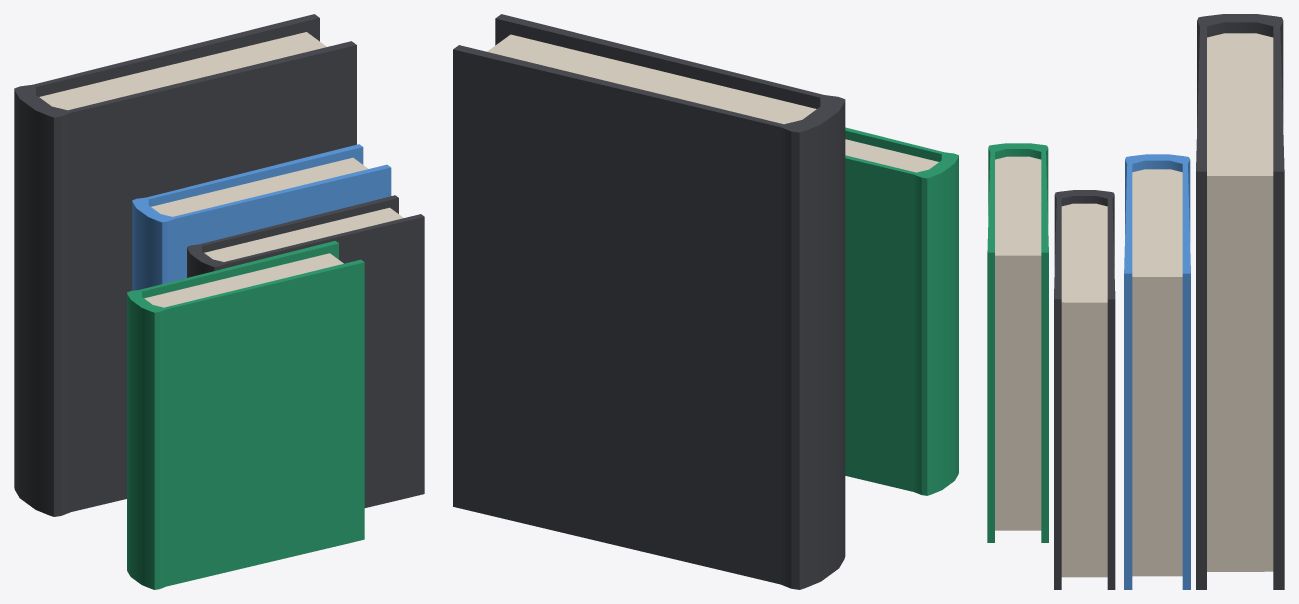
The model's file is BookPile3.fbx.
3 views of the same model, side by side, from view 1: azimuth 30°, elevation 25°; view 2: azimuth 150°, elevation 25°; view 3: azimuth 270°, elevation 25° (orthographic). The views are drawn at different scales.
Visible parts, largest first — view 1: polySurface104; view 2: polySurface104; view 3: polySurface104.
Boxes of the visible parts, x1,y1,x2,y2 form: polySurface104: [14, 14, 424, 589]; polySurface104: [453, 14, 958, 589]; polySurface104: [987, 14, 1284, 589].
Size of the model in its own units: 0.4519 by 0.5599 by 0.3603.
